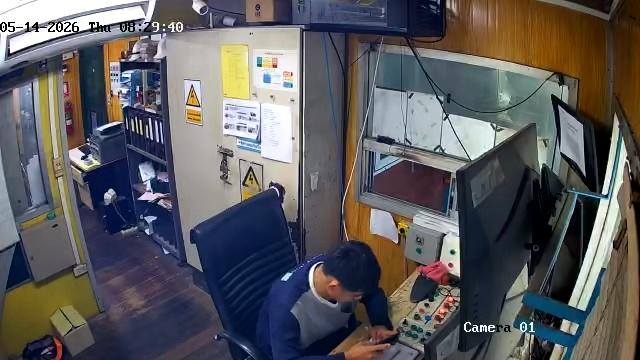Head: (322, 240, 377, 301)
People: (260, 240, 396, 360)
Phone: (378, 331, 401, 344)
